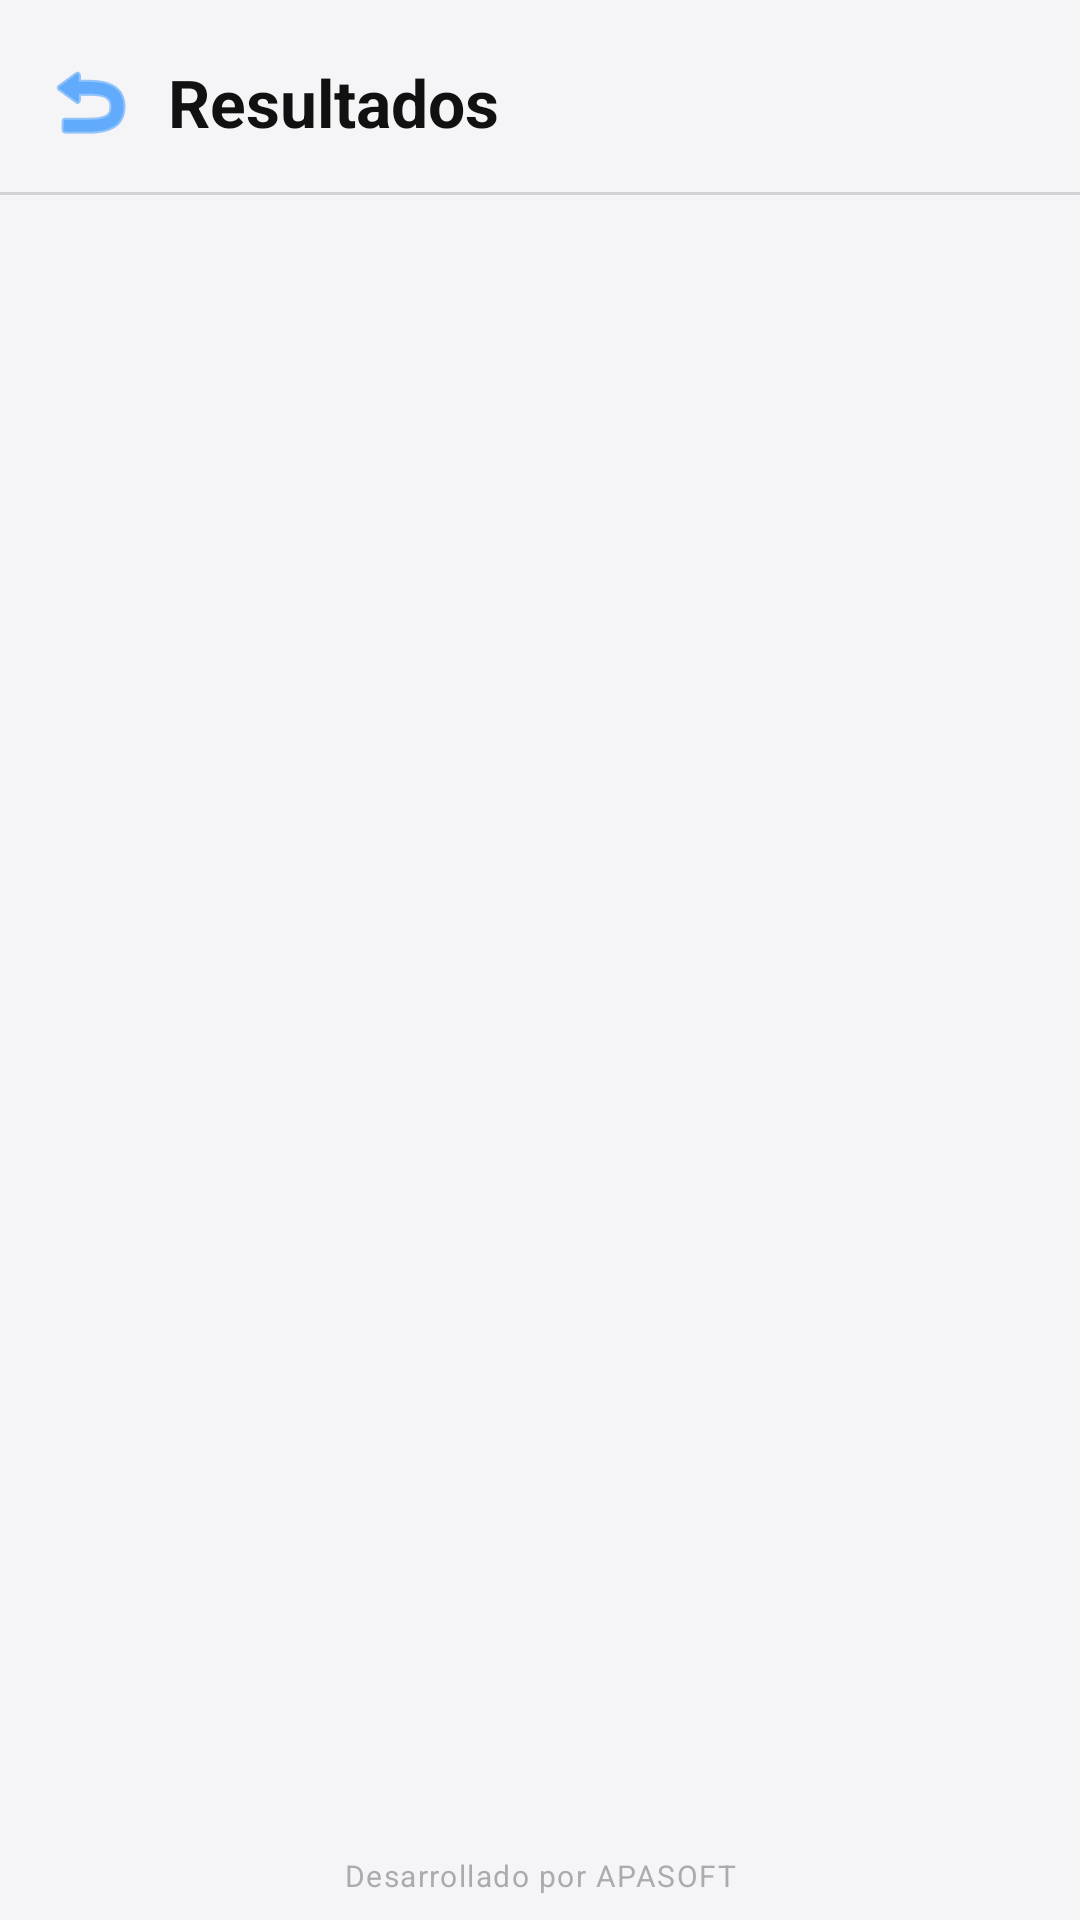

Icon click points for this 1080×1920 phone screenshot, format (x,y):
Volver: (91,102)
